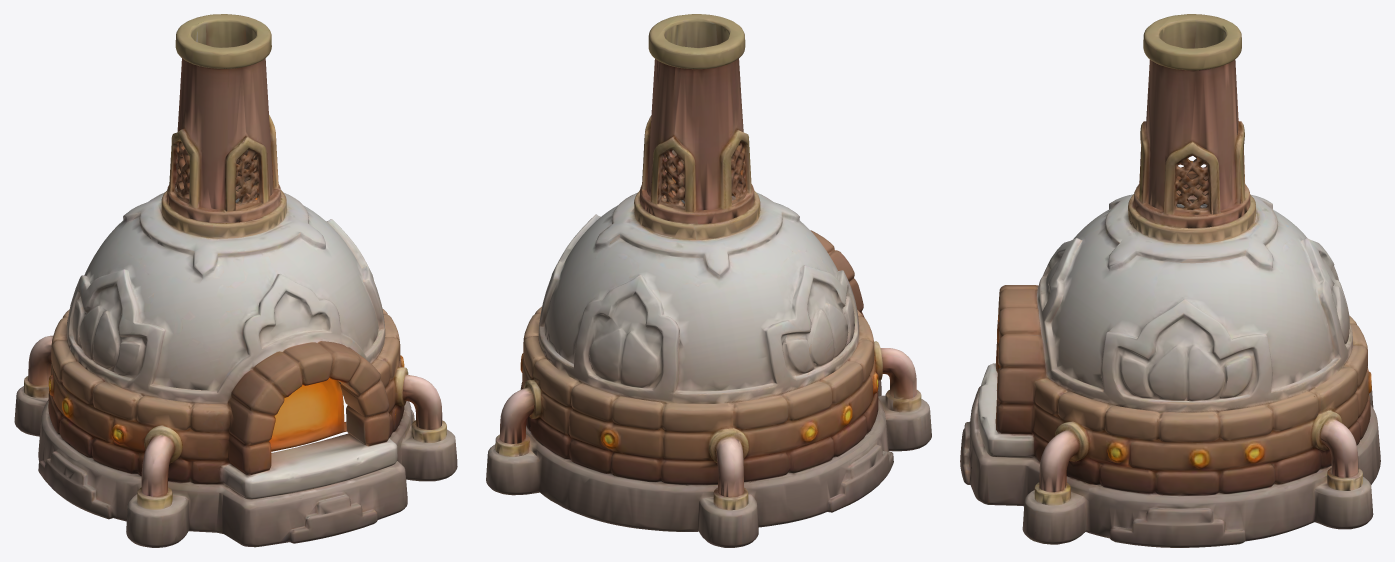
The model's file is smelter.glb.
3 views of the same model, side by side, from view 1: azimuth 30°, elevation 25°; view 2: azimuth 150°, elevation 25°; view 3: azimuth 270°, elevation 25° (orthographic). The views are drawn at different scales.
Parts seen in each view (by area): view 1: node_0; view 2: node_0; view 3: node_0.
Part boxes in pixels (x1,y1,x2,y2): node_0: (14, 14, 457, 547); node_0: (486, 14, 931, 547); node_0: (960, 14, 1380, 547).
Bounding box in the file's own units: 0.7074 × 0.8443 × 0.7459.
1 material, 1 textured.
